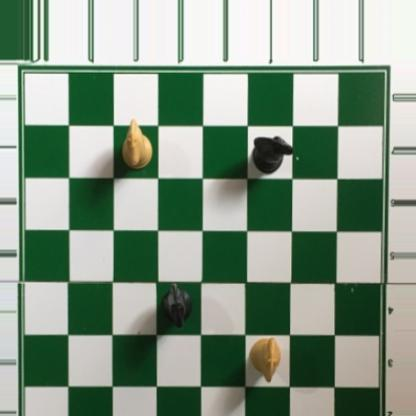black-knight: (252, 133, 293, 176), (160, 283, 195, 329)
white-knight: (120, 118, 153, 172), (248, 337, 283, 382)
